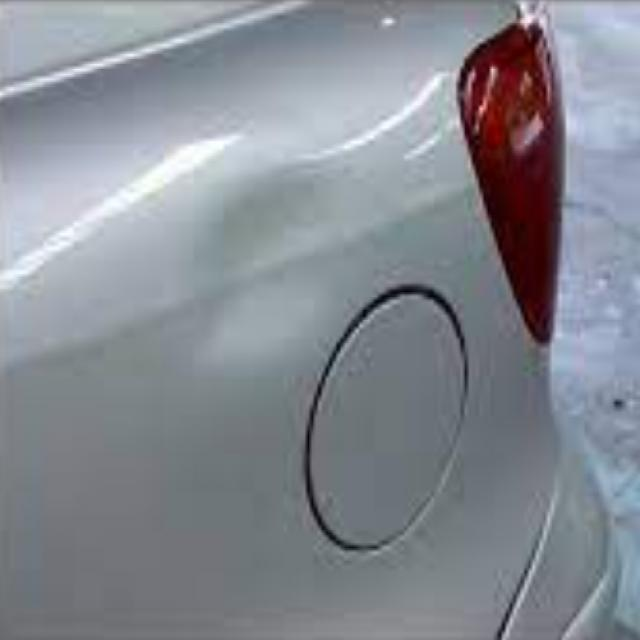dents: (203, 174, 361, 368)
